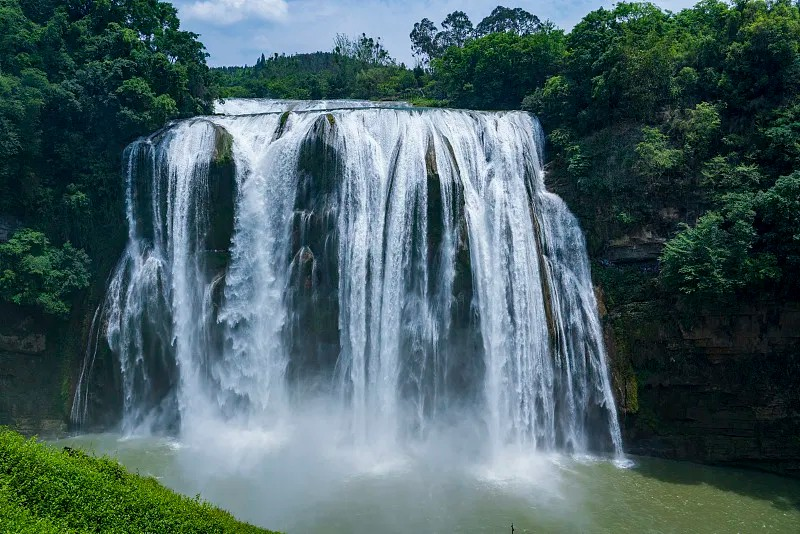Huangguoshu: (69, 97, 623, 452)
